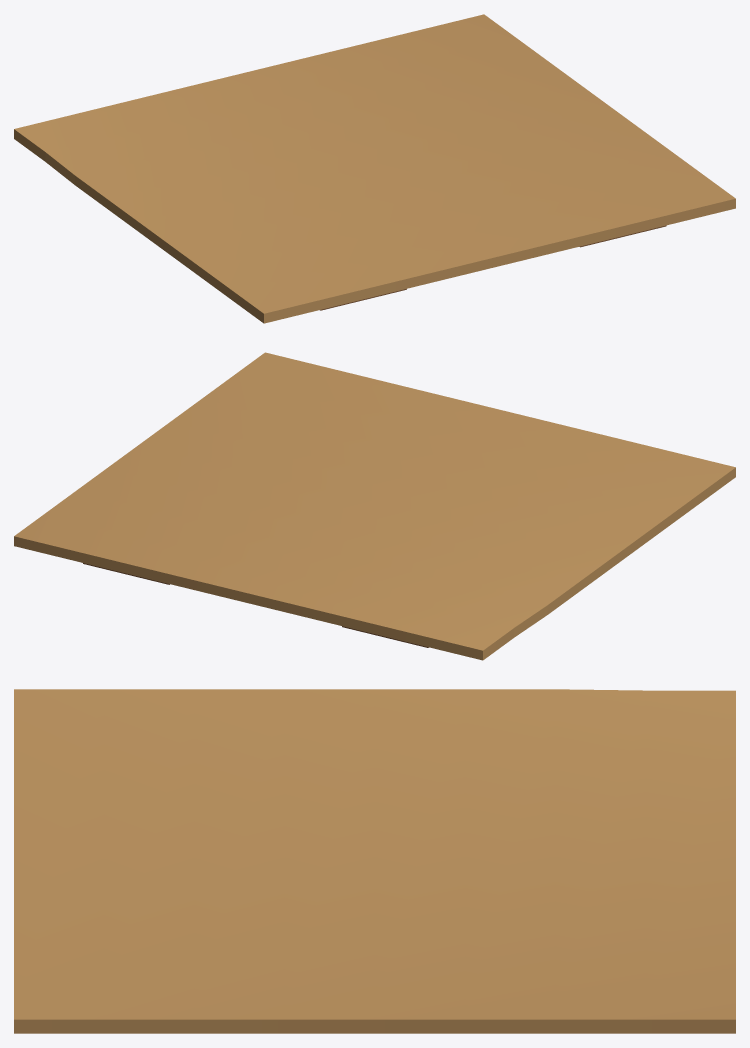
Rendered from Med Single Light Crate Lid.fbx.
3 views of the same model, one above another, from view 1: azimuth 30°, elevation 25°; view 2: azimuth 150°, elevation 25°; view 3: azimuth 270°, elevation 25° (orthographic). The views are drawn at different scales.
Parts seen in each view (by area): view 1: Med Light Single Crate Lid; view 2: Med Light Single Crate Lid; view 3: Med Light Single Crate Lid.
Boxes of the visible parts, x1,y1,x2,y2 form: Med Light Single Crate Lid: (14, 14, 735, 323); Med Light Single Crate Lid: (14, 352, 735, 660); Med Light Single Crate Lid: (14, 689, 735, 1033).
Bounding box in the file's own units: 7.13 × 192 × 208.
Materials: 1 (1 with a texture image).
